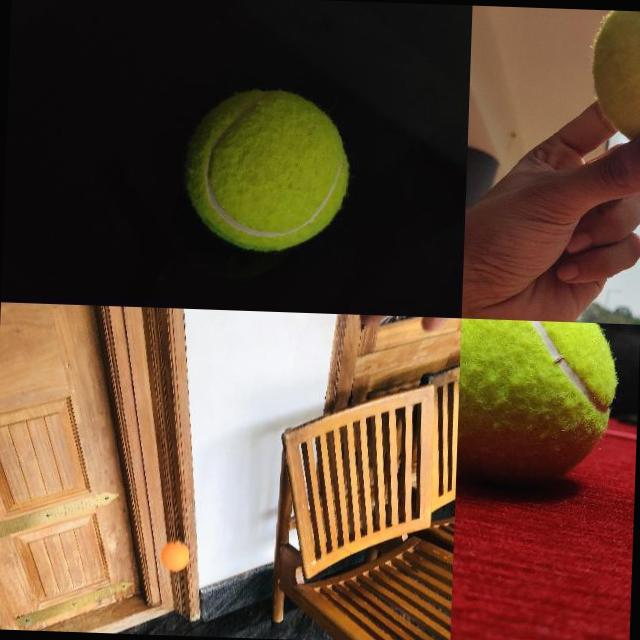Tennis Ball: (180, 85, 351, 254), (456, 318, 622, 488), (590, 9, 640, 152)
